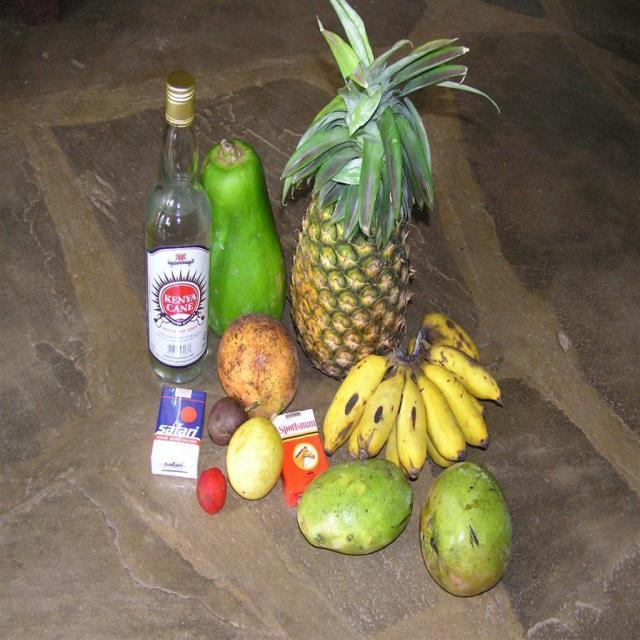Pineapple: (279, 0, 499, 378)
